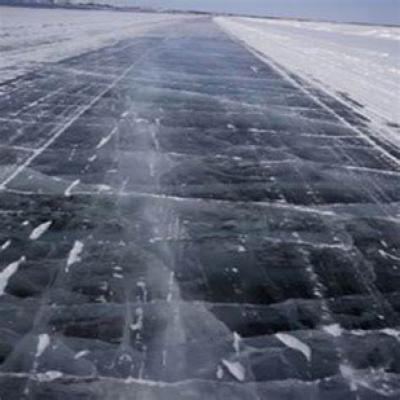iced-road: (0, 19, 400, 400)
